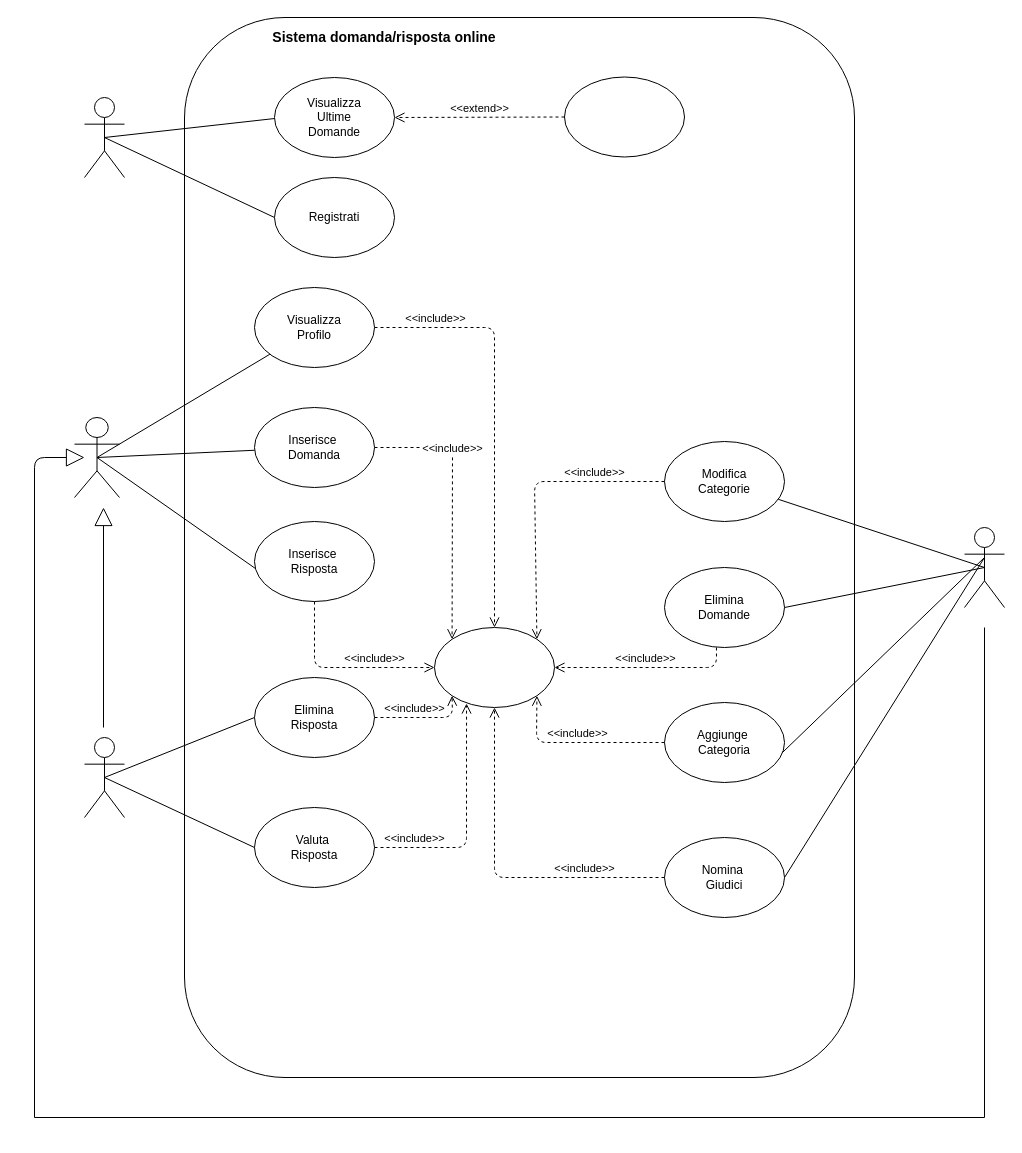
The diagram is 1022 pixels wide and 1153 high, and some of its shapes have lost their labels. Each missing label, with the centre of its shape:
"Admin" belongs at (984,567).
"Autentucazione" belongs at (494,667).
"Giudice" belongs at (104,777).
"Seleziona Domanda" belongs at (624,116).
"Utente" belongs at (97,457).
"Visitatore" belongs at (104,137).
